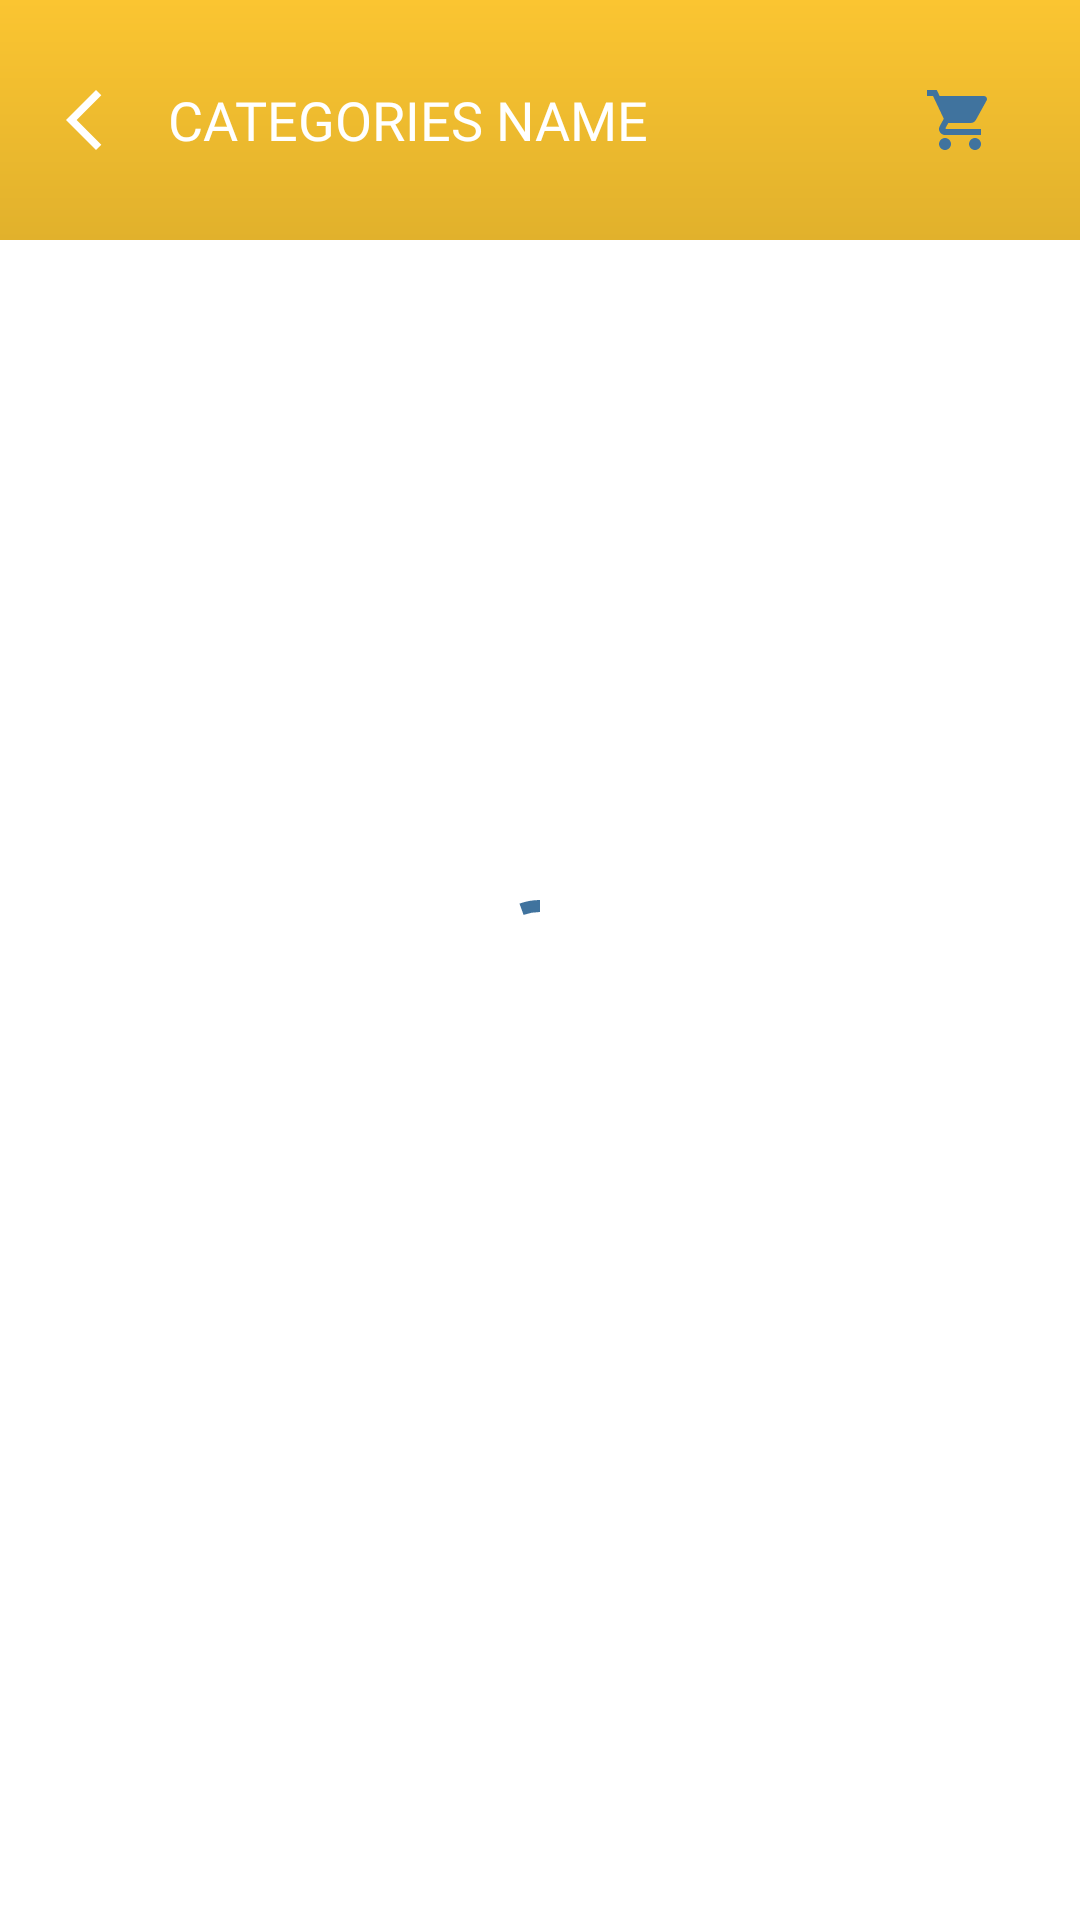

Screen size 1080*1920. Icon name, then its center in pixels as (x=x, y=y):
arrow back: (x=83, y=120)
shopping cart: (x=957, y=120)
